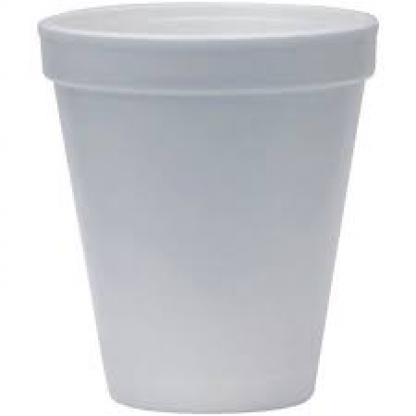paper: (37, 6, 377, 412)
